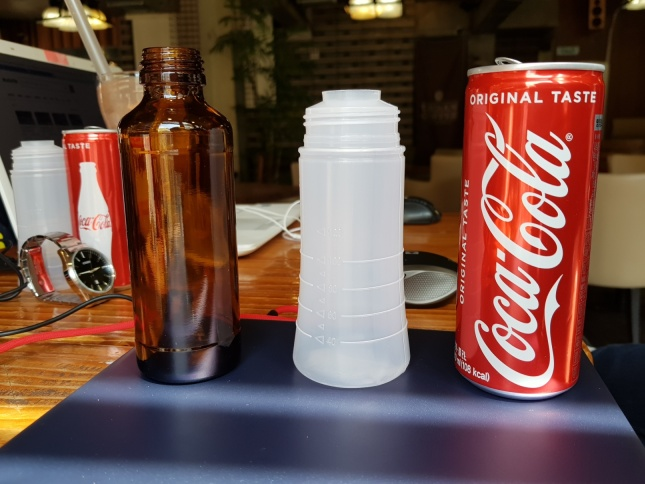Can: (451, 55, 612, 402)
Glass: (112, 44, 244, 385)
Plastic: (292, 87, 417, 387)
